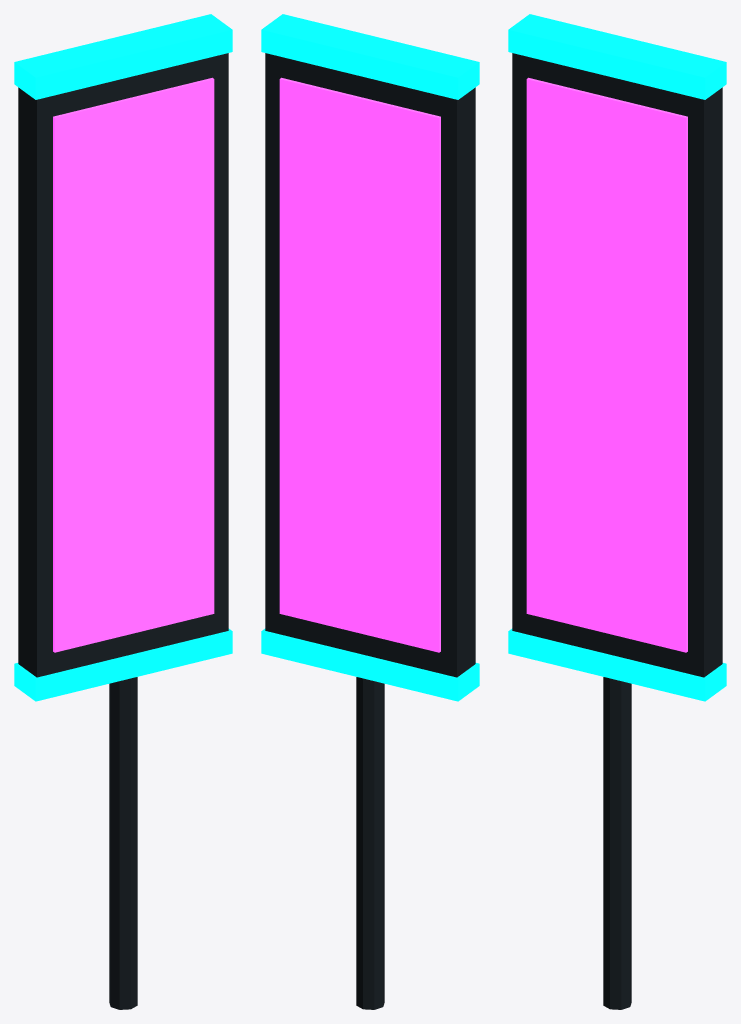
The model's file is cartel_neon_rosa.glb.
3 renders of one model, left to right at view 1: azimuth 30°, elevation 25°; view 2: azimuth 150°, elevation 25°; view 3: azimuth 330°, elevation 25°, orthographic.
Parts seen in each view (by area): view 1: Cartel_Neon_Rosa_Mesh; view 2: Cartel_Neon_Rosa_Mesh; view 3: Cartel_Neon_Rosa_Mesh.
Boxes of the visible parts, left/top/right/bottom form: Cartel_Neon_Rosa_Mesh: left=14, top=14, right=232, bottom=1009; Cartel_Neon_Rosa_Mesh: left=261, top=14, right=479, bottom=1009; Cartel_Neon_Rosa_Mesh: left=508, top=14, right=726, bottom=1009.
Size of the model in its own units: 1.85 by 8.6 by 0.36.
